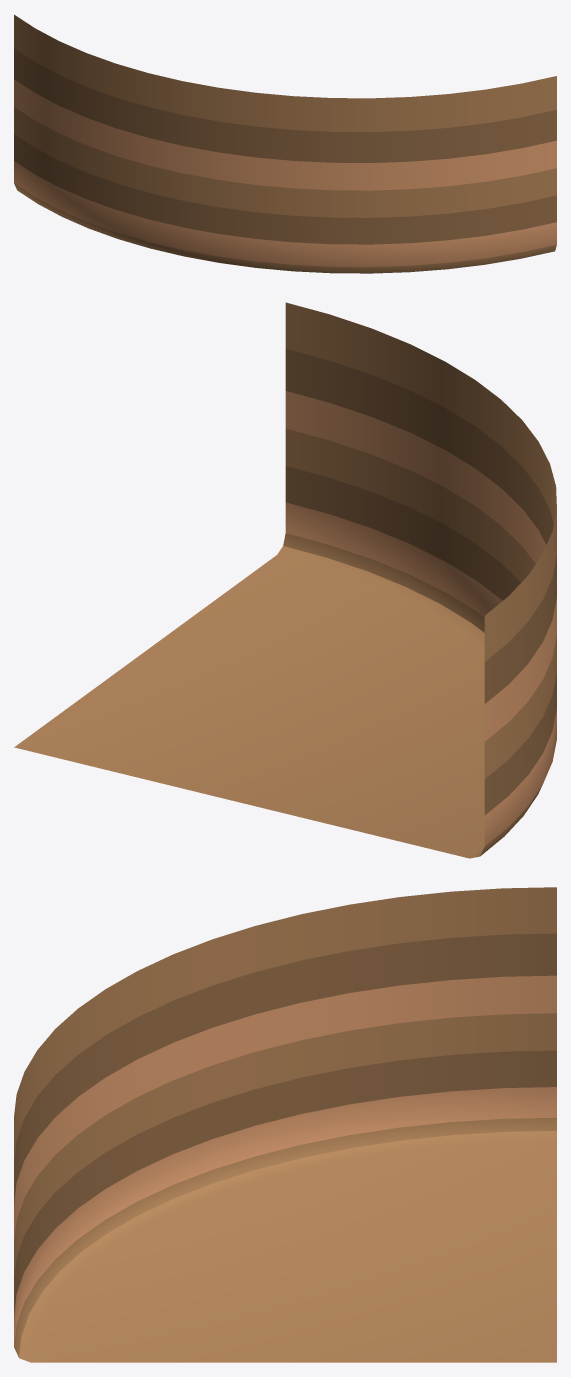
Rendered from platform_grass_corner_round2_bottom_tall.gltf.
3 renders of one model, top to bottom at view 1: azimuth 30°, elevation 25°; view 2: azimuth 150°, elevation 25°; view 3: azimuth 270°, elevation 25°, orthographic. The views are drawn at different scales.
Visible parts, largest first — view 1: Cube_Grass_Corner_Round2Bottom_Tall; view 2: Cube_Grass_Corner_Round2Bottom_Tall; view 3: Cube_Grass_Corner_Round2Bottom_Tall.
Boxes of the visible parts, left/top/right/bottom form: Cube_Grass_Corner_Round2Bottom_Tall: left=14, top=14, right=556, bottom=273; Cube_Grass_Corner_Round2Bottom_Tall: left=14, top=302, right=556, bottom=858; Cube_Grass_Corner_Round2Bottom_Tall: left=14, top=887, right=556, bottom=1362.
Bounding box in the file's own units: 4 × 2 × 4.
